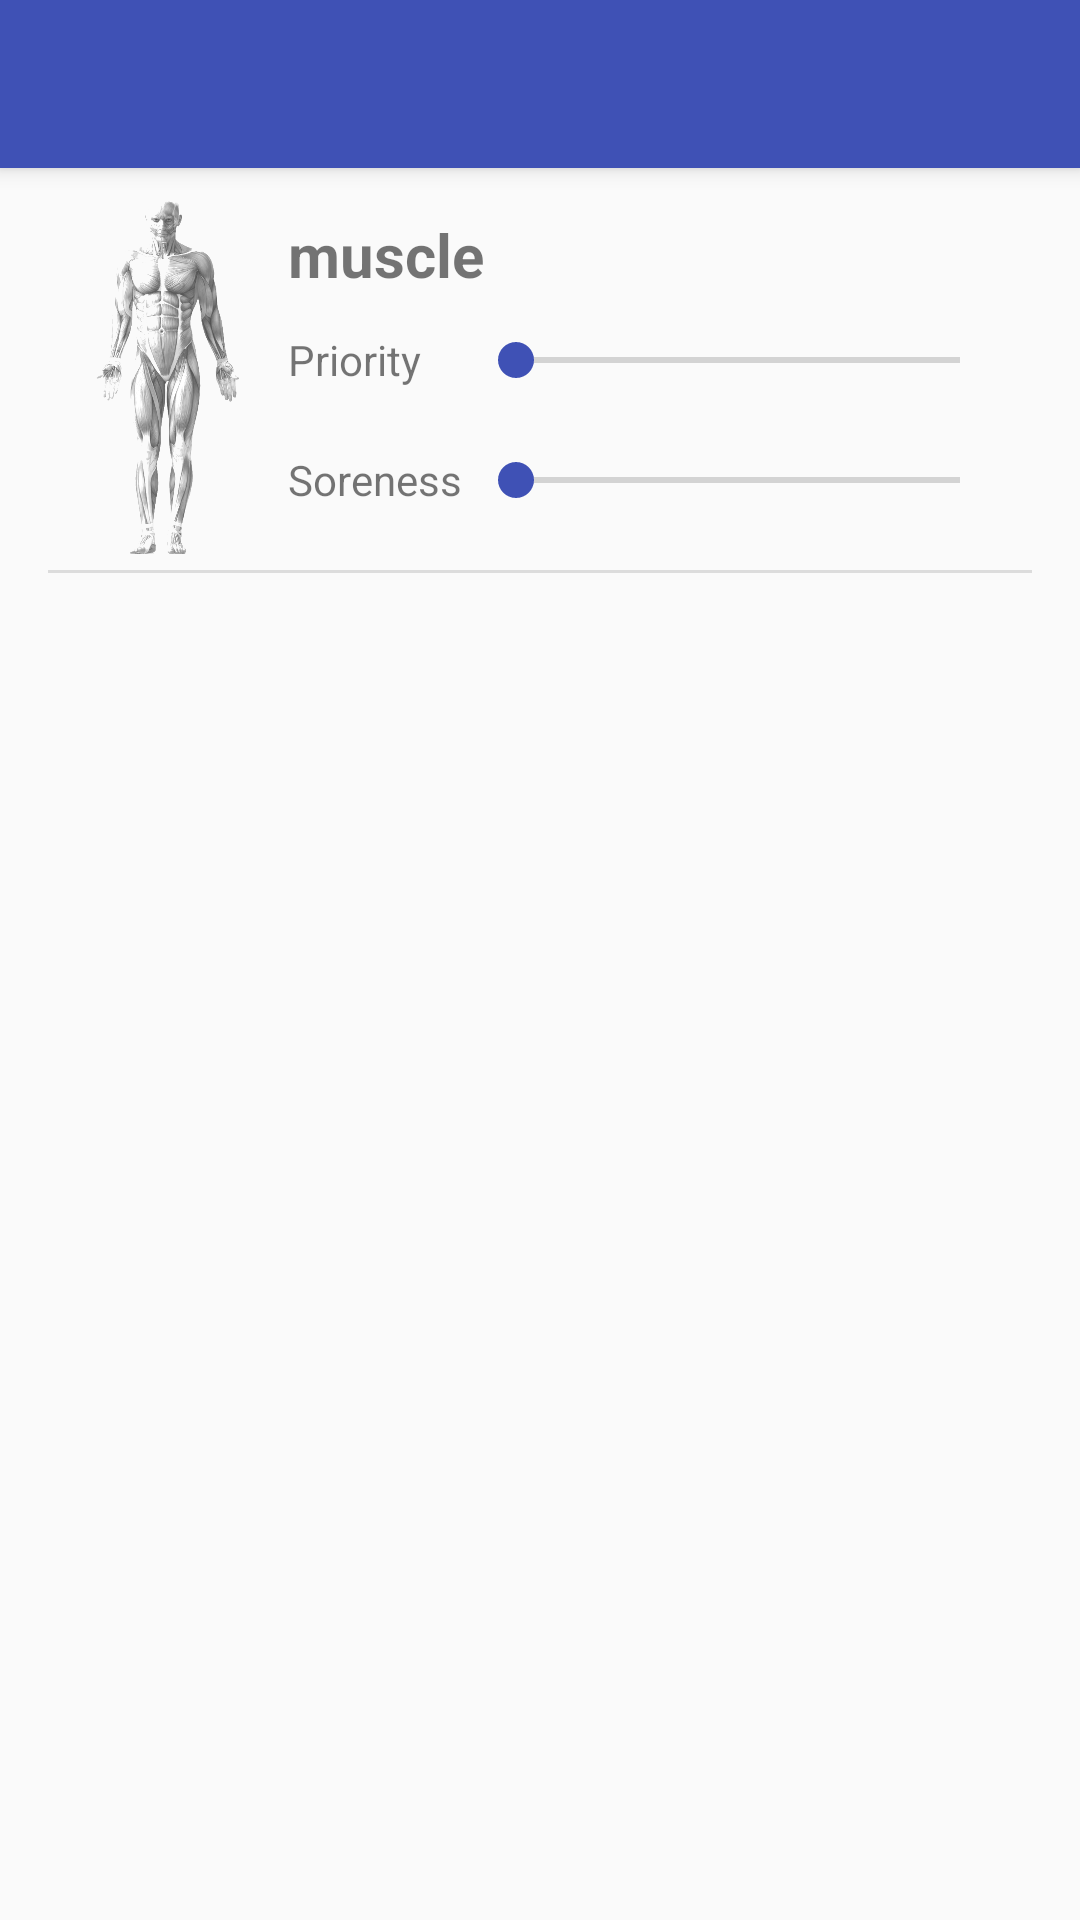

Icons on this 1080×1920 Android screen, each with the point to tap as (x,y):
body: (168,378)
